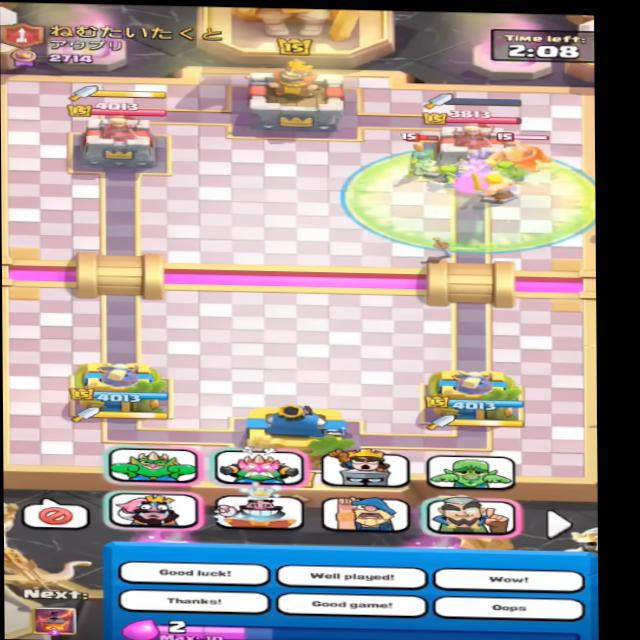guards: (402, 144, 443, 181)
knight: (482, 132, 559, 176)
